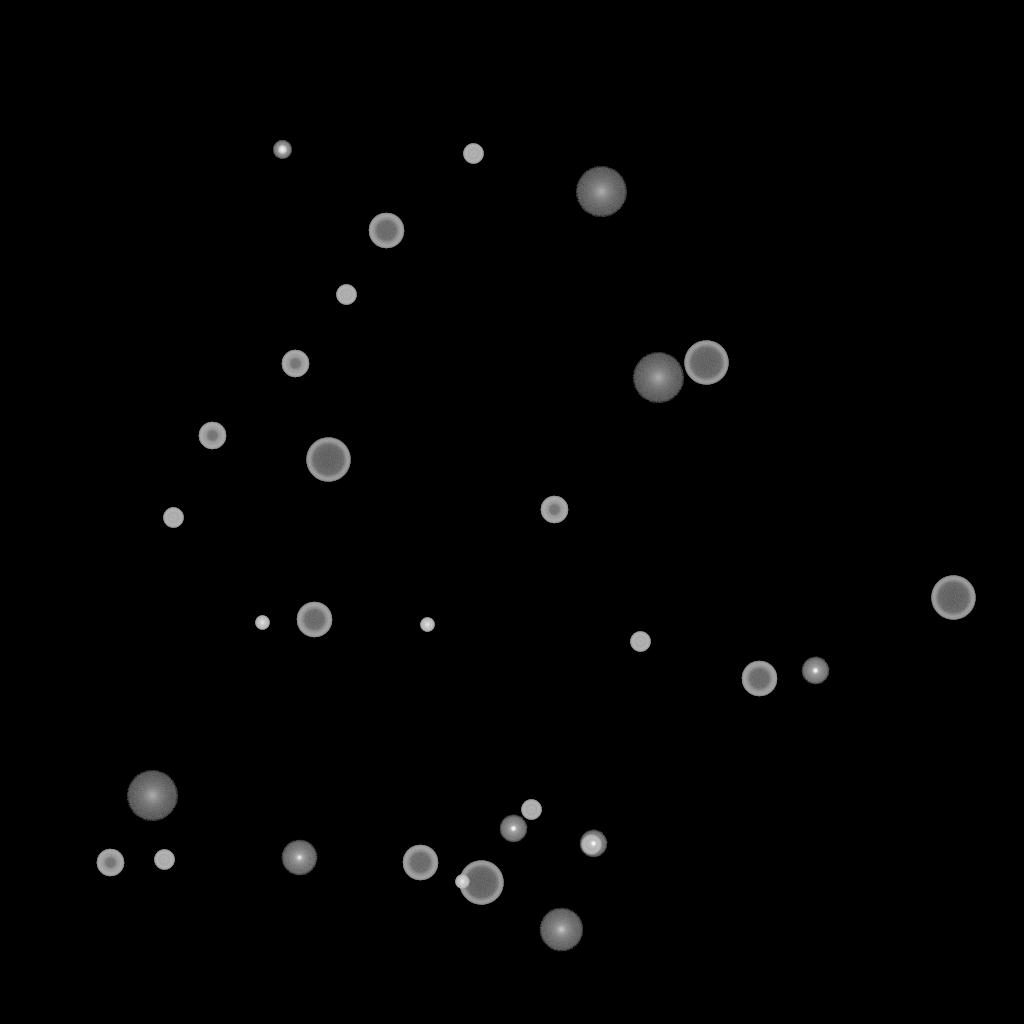depth:-10: (801, 657, 829, 685), (499, 815, 527, 843), (579, 830, 607, 858)
depth:-20: (273, 141, 291, 159)
depth:-30: (420, 618, 434, 632), (255, 616, 269, 630), (455, 875, 469, 889)
depth:-40: (463, 144, 483, 164), (163, 508, 183, 528), (581, 835, 601, 855), (630, 632, 650, 652), (521, 800, 541, 820), (154, 850, 174, 870), (336, 285, 356, 305)
depth:-50: (198, 422, 226, 450), (281, 350, 309, 378), (540, 496, 568, 524), (96, 849, 124, 877)
depth:-60: (402, 845, 438, 881), (741, 661, 777, 697), (368, 213, 404, 249), (296, 602, 332, 638)
depth:-70: (459, 861, 503, 905), (931, 576, 975, 620), (684, 341, 728, 385), (306, 438, 350, 482)
depth:0: (281, 840, 317, 876)
depth:10: (539, 908, 583, 952)
depth:20: (632, 353, 684, 403), (575, 167, 627, 217), (126, 771, 178, 821)
